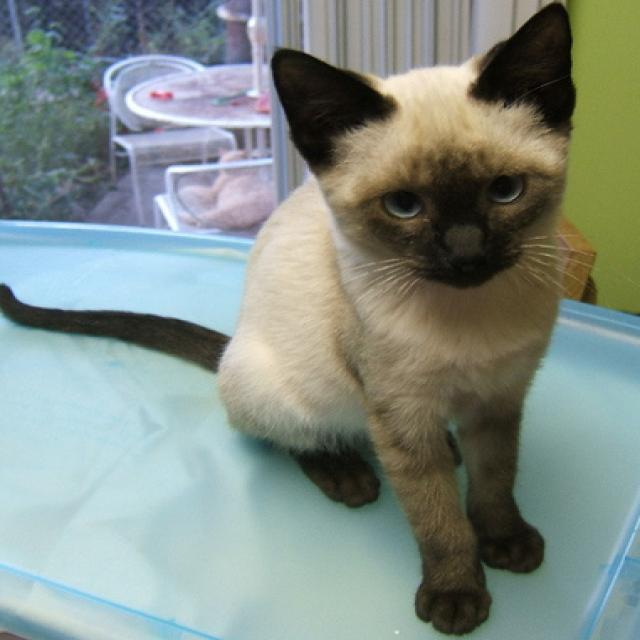Siamese: (0, 0, 581, 637)
